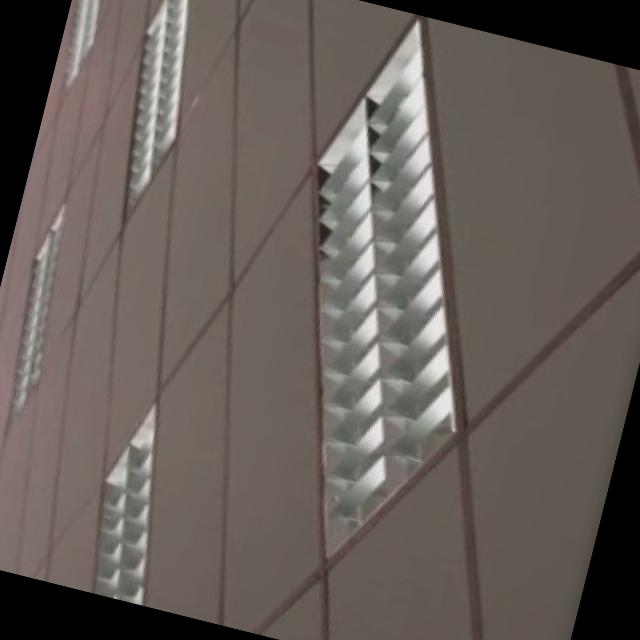light: (315, 16, 460, 561), (120, 0, 203, 218), (93, 390, 161, 640), (0, 203, 71, 414)
